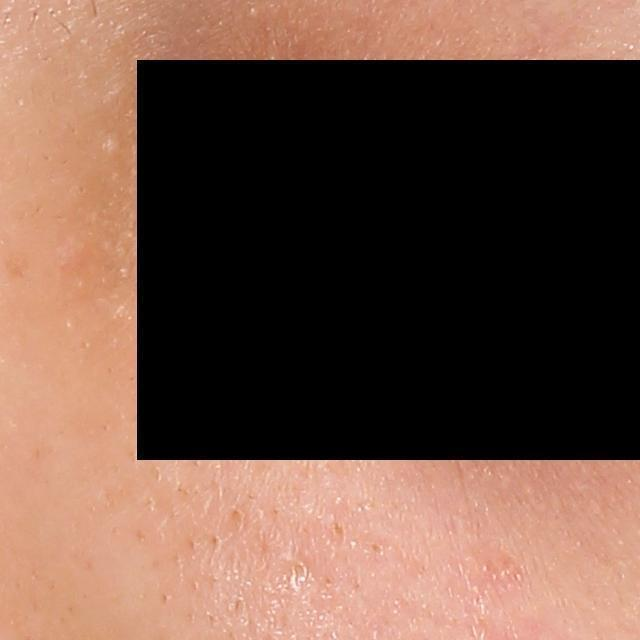comedo: (287, 557, 309, 593), (101, 135, 123, 157), (228, 505, 247, 527)
